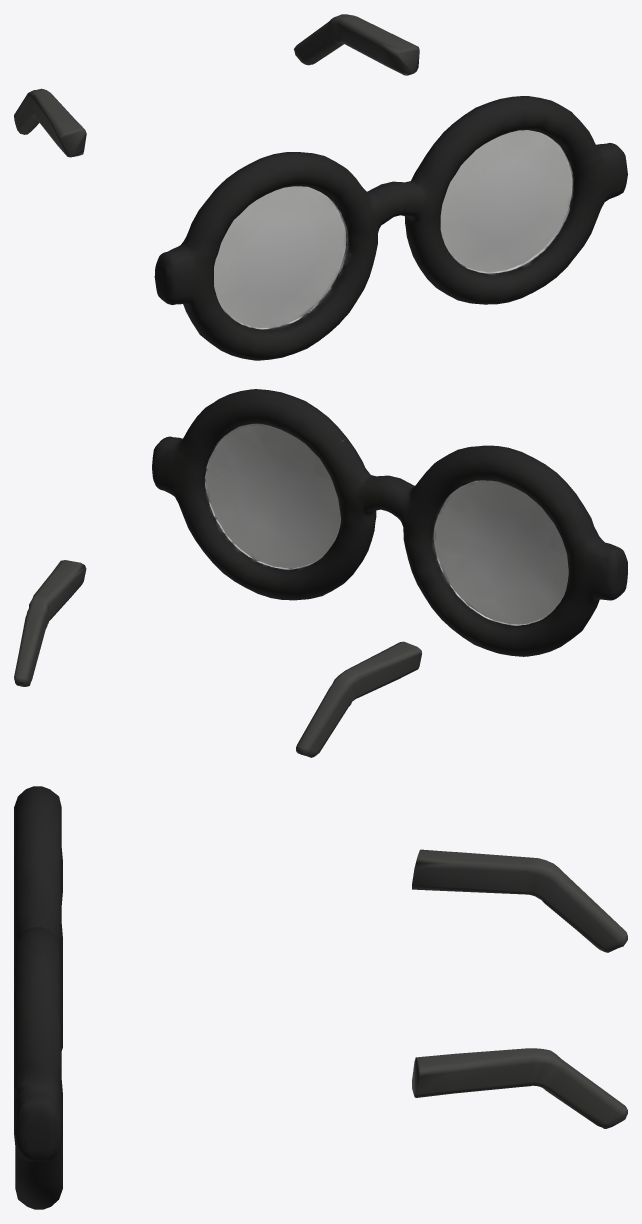
Rendered from optimized_glb.glb.
3 renders of one model, top to bottom at view 1: azimuth 30°, elevation 25°; view 2: azimuth 150°, elevation 25°; view 3: azimuth 270°, elevation 25°, orthographic. The views are drawn at different scales.
Parts seen in each view (by area): view 1: round-glasses; view 2: round-glasses; view 3: round-glasses.
Boxes of the visible parts, <box> form: round-glasses: <box>14,14,627,360</box>; round-glasses: <box>14,389,627,757</box>; round-glasses: <box>14,786,627,1209</box>.
Bounding box in the file's own units: 0.998 × 0.416 × 0.9043.
Materials: 1 (1 with a texture image).
